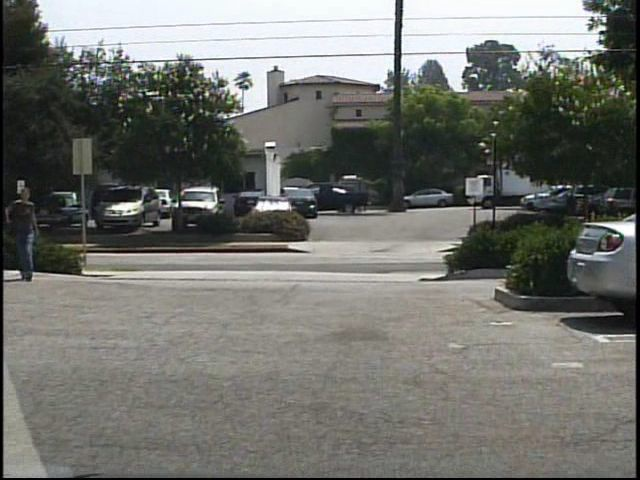person: (10, 186, 49, 281)
